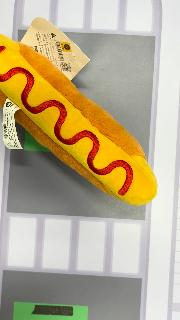hotdog: (0, 34, 158, 206)
